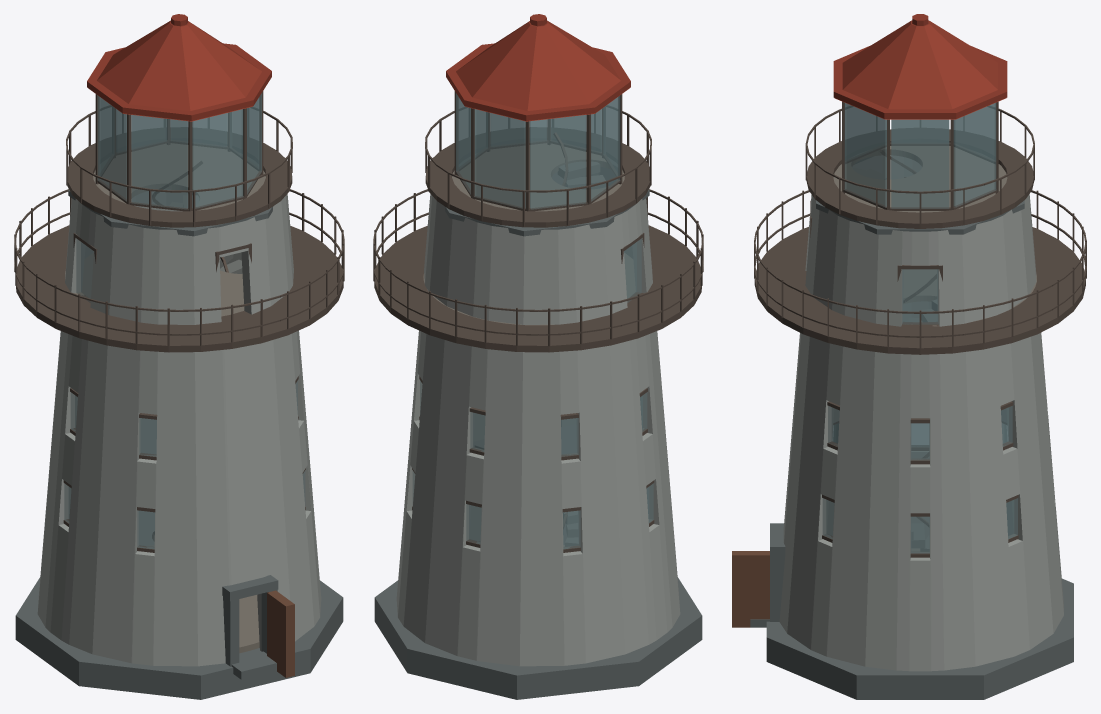
Rendered from lighthouse.fbx.
3 renders of one model, left to right at view 1: azimuth 30°, elevation 25°; view 2: azimuth 150°, elevation 25°; view 3: azimuth 270°, elevation 25°, orthographic.
Parts seen in each view (by area): view 1: Continuous connected octagonal tower wall, Complete octagonal control-room balcony, Unified octagonal stone foundation, Octagonal lantern roof, Floor level 3 ring, Lantern gallery floor, Lantern glass panel 04, Lantern glass panel 05, Red octagonal roof eave, Lantern glass panel 03, Main heavy wooden door, Lantern glass panel 01 (+13 smaller); view 2: Continuous connected octagonal tower wall, Complete octagonal control-room balcony, Unified octagonal stone foundation, Octagonal lantern roof, Floor level 3 ring, Lantern gallery floor, Lantern glass panel 02, Lantern glass panel 01, Red octagonal roof eave, Lantern glass panel 03, Lantern glass panel 05, Lantern glass panel 06 (+10 smaller); view 3: Continuous connected octagonal tower wall, Complete octagonal control-room balcony, Unified octagonal stone foundation, Octagonal lantern roof, Lantern gallery floor, Floor level 3 ring, Lantern glass panel 07, Lantern glass panel 00, Lantern glass panel 06, Main heavy wooden door, Red octagonal roof eave, Control room window 07 glass (+8 smaller).
Boxes of the visible parts, x1,y1,x2,y2 form: Continuous connected octagonal tower wall: (37, 191, 321, 666); Complete octagonal control-room balcony: (16, 225, 343, 352); Unified octagonal stone foundation: (15, 577, 343, 699); Octagonal lantern roof: (88, 20, 261, 121); Floor level 3 ring: (93, 143, 265, 210); Lantern gallery floor: (67, 143, 292, 227); Lantern glass panel 04: (131, 115, 187, 209); Lantern glass panel 05: (192, 109, 243, 208); Red octagonal roof eave: (87, 43, 271, 120); Lantern glass panel 03: (97, 96, 126, 201); Main heavy wooden door: (267, 590, 294, 677); Lantern glass panel 01: (116, 109, 166, 151); Continuous connected octagonal tower wall: (396, 167, 680, 666); Complete octagonal control-room balcony: (374, 225, 701, 352); Unified octagonal stone foundation: (374, 577, 702, 699); Octagonal lantern roof: (456, 20, 629, 121); Floor level 3 ring: (452, 143, 624, 211); Lantern gallery floor: (425, 143, 650, 227); Lantern glass panel 02: (530, 115, 586, 209); Lantern glass panel 01: (474, 109, 525, 208); Red octagonal roof eave: (446, 43, 630, 120); Lantern glass panel 03: (591, 96, 620, 201); Lantern glass panel 05: (551, 109, 601, 151); Lantern glass panel 06: (491, 113, 546, 146); Continuous connected octagonal tower wall: (779, 155, 1063, 671); Complete octagonal control-room balcony: (754, 227, 1085, 354); Unified octagonal stone foundation: (766, 578, 1073, 699); Octagonal lantern roof: (834, 20, 1006, 119); Lantern gallery floor: (806, 129, 1034, 228); Floor level 3 ring: (833, 146, 1007, 212); Lantern glass panel 07: (891, 119, 949, 208); Lantern glass panel 00: (953, 103, 996, 207); Lantern glass panel 06: (844, 103, 886, 207); Main heavy wooden door: (732, 551, 769, 627); Red octagonal roof eave: (833, 45, 1007, 118); Control room window 07 glass: (902, 269, 938, 324).
Bounding box in the file's own units: 921 × 1885 × 981.
